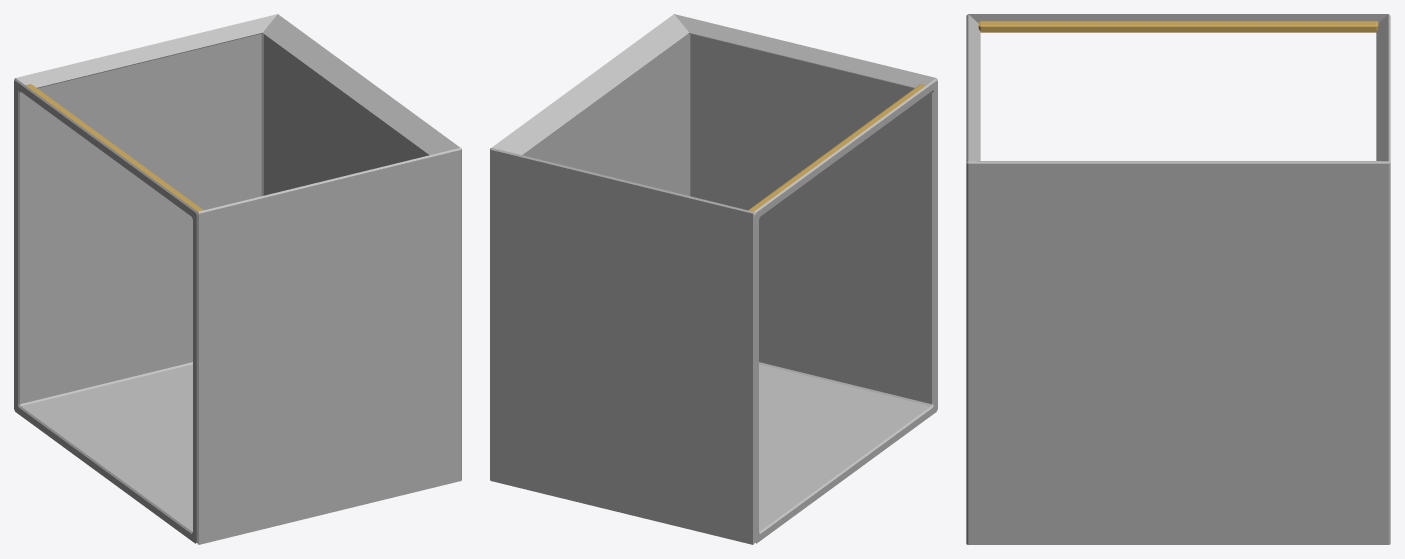
The model's file is UnderKitchenDrawers.fbx.
The picture shows the model from 3 angles, left to right: view 1: azimuth 30°, elevation 25°; view 2: azimuth 150°, elevation 25°; view 3: azimuth 270°, elevation 25°; orthographic projection. The views are drawn at different scales.
Visible parts, largest first — view 1: UnderKitchenDrawers; view 2: UnderKitchenDrawers; view 3: UnderKitchenDrawers.
Boxes of the visible parts, <box> form: UnderKitchenDrawers: <box>14,14,461,544</box>; UnderKitchenDrawers: <box>490,14,937,544</box>; UnderKitchenDrawers: <box>966,14,1390,544</box>.
Bounding box in the file's own units: 83.06 × 99.58 × 100.
